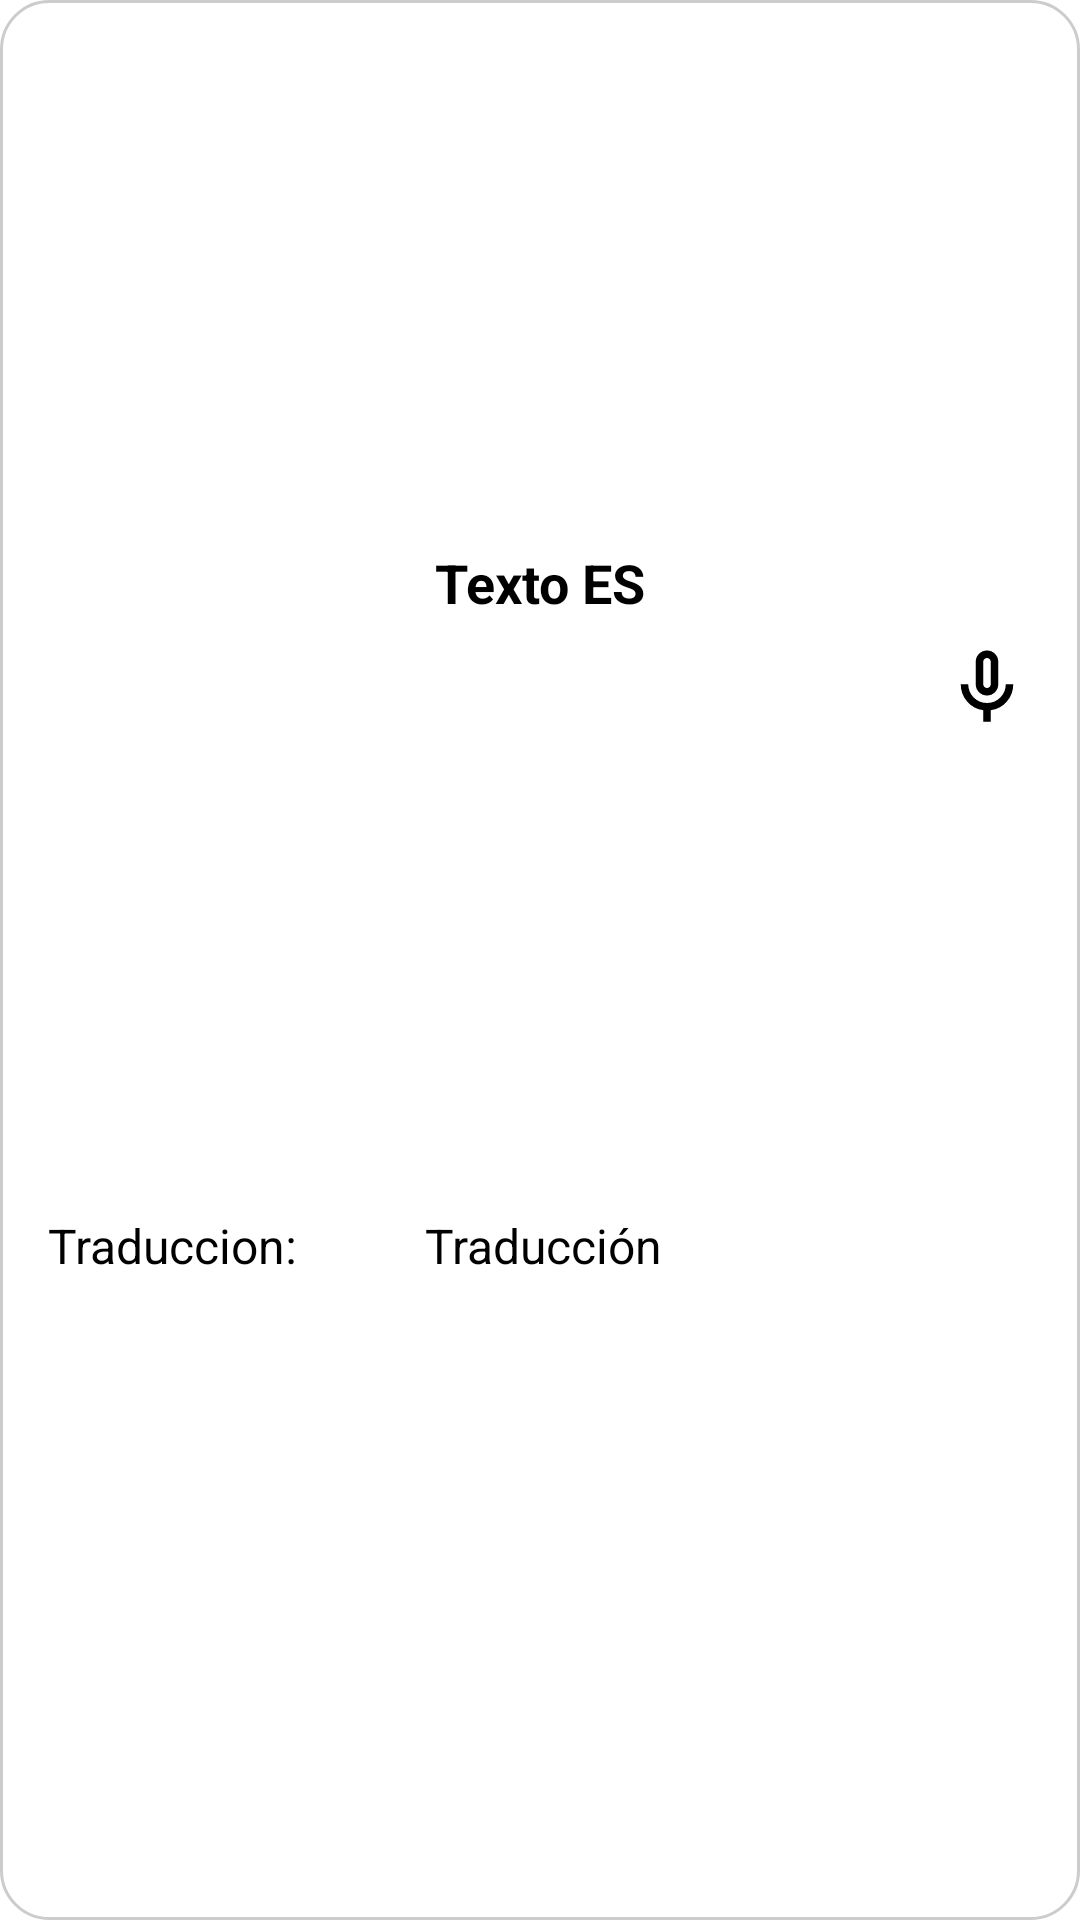

Where to tap for icons on this 1080px×1920px app screen, as (x,y):
microfono: (987,686)
